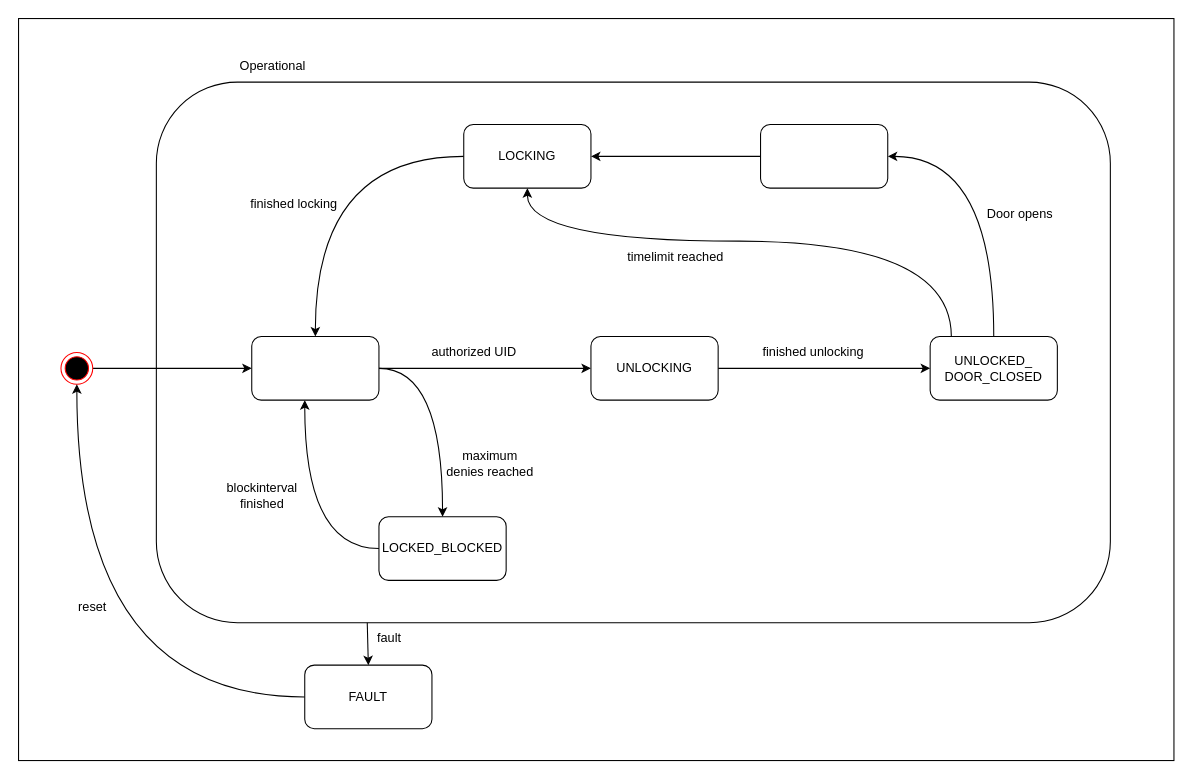
The diagram is 1192 pixels wide and 779 high, and some of its shapes have lost their labels. The centre of each missing label's shape, as x and y in pixels:
LOCKED_READY: [315,367]
UNLOCKED_ DOOR_OPEN: [823,155]
